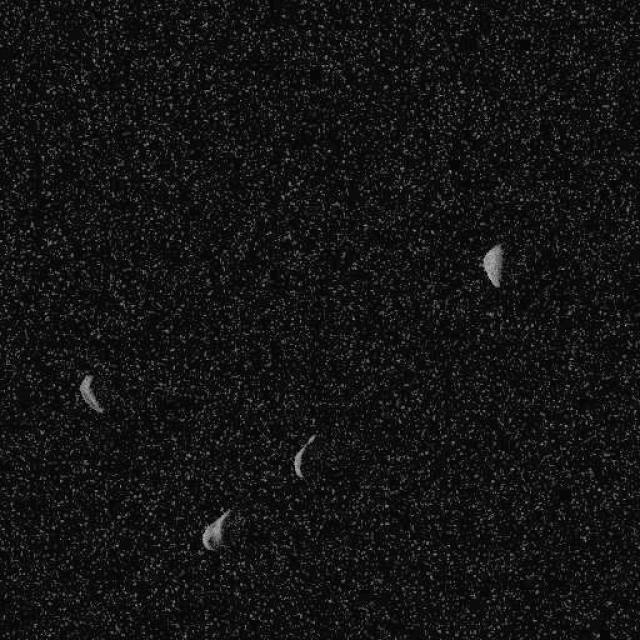D2: (200, 508, 230, 552), (292, 431, 318, 479), (77, 372, 105, 413), (481, 242, 504, 288)
